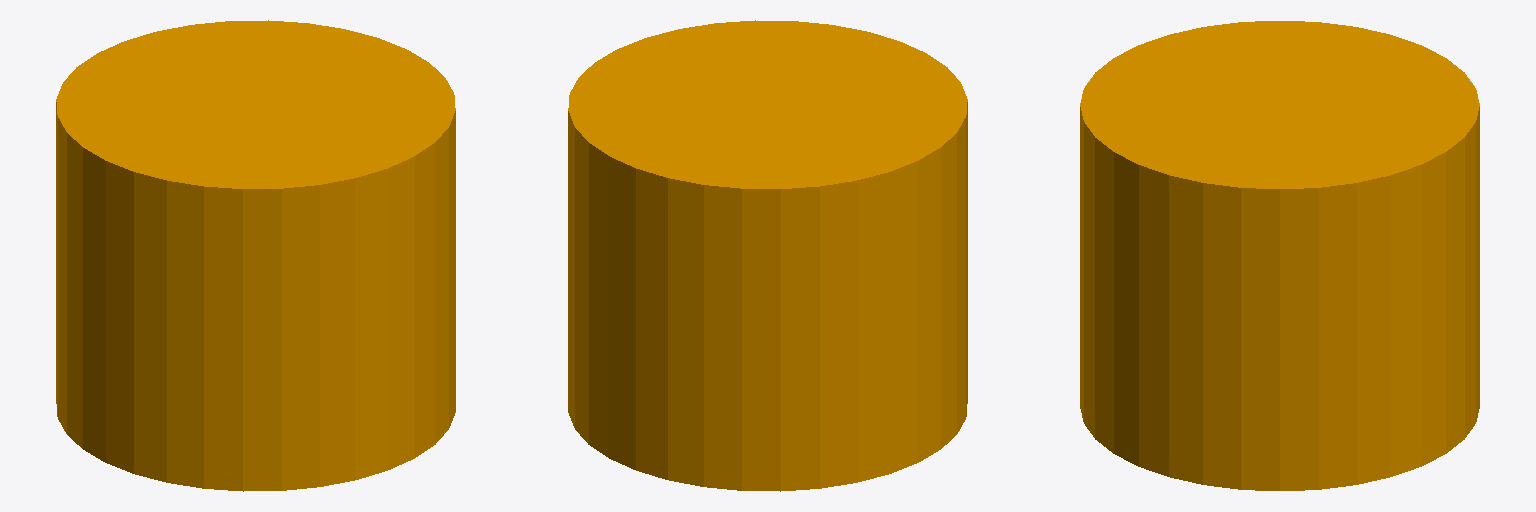
URDF robot description (block):
<robot name="block">
  <link name="block_link">
    <inertial>
      <origin xyz="0.0 0.0 0.0" />
      <mass value="0.5" />
      <inertia  ixx="0.000216667" ixy="0.0"  ixz="0.0"  iyy="0.000216667"  iyz="0.0"  izz="0.000225" />
    </inertial>
    <visual>
      <origin xyz="0.0 0.0 0.0"/>
      <geometry>
        <cylinder radius="0.03" length="0.05"/>
      </geometry>
    </visual>
    <collision>
      <origin xyz="0.0 0.0 0.0"/>
      <geometry>
        <cylinder radius="0.03" length="0.05"/>
      </geometry>
    </collision>
  </link>
  <gazebo reference="block_link">
     <material>Gazebo/SkyBlue</material>
     <mu1>0.2</mu1>
     <mu2>0.2</mu2>
     <maxVel>0.1</maxVel>
     <minDepth>0.0001</minDepth>
  </gazebo>
</robot>

--- What the picture shows (computed from the rendered views, not written in the file) ---
3 views of the same robot in one strip: view 1: azimuth 30°, elevation 25°; view 2: azimuth 150°, elevation 25°; view 3: azimuth 270°, elevation 25° (orthographic).
Model block with 1 links and 0 joints (none), rooted at block_link, posed every joint at zero.
Visible links, largest first — view 1: block_link; view 2: block_link; view 3: block_link.
Link boxes in pixels (x1,y1,x2,y2): block_link: [56, 20, 455, 491]; block_link: [568, 20, 967, 491]; block_link: [1080, 21, 1479, 490].
Bounding box of the posed robot: 0.06 × 0.06 × 0.05 m (x, y, z).
Geometry: primitives only (box / cylinder / sphere), no mesh files.